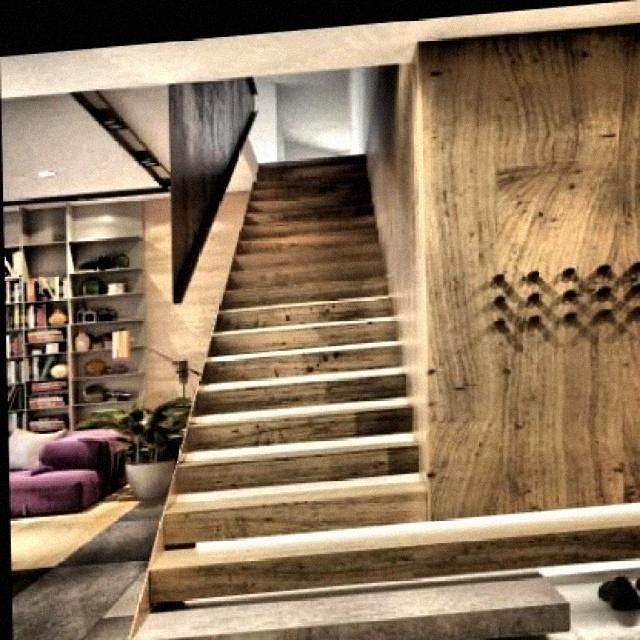stair: (111, 123, 549, 639)
